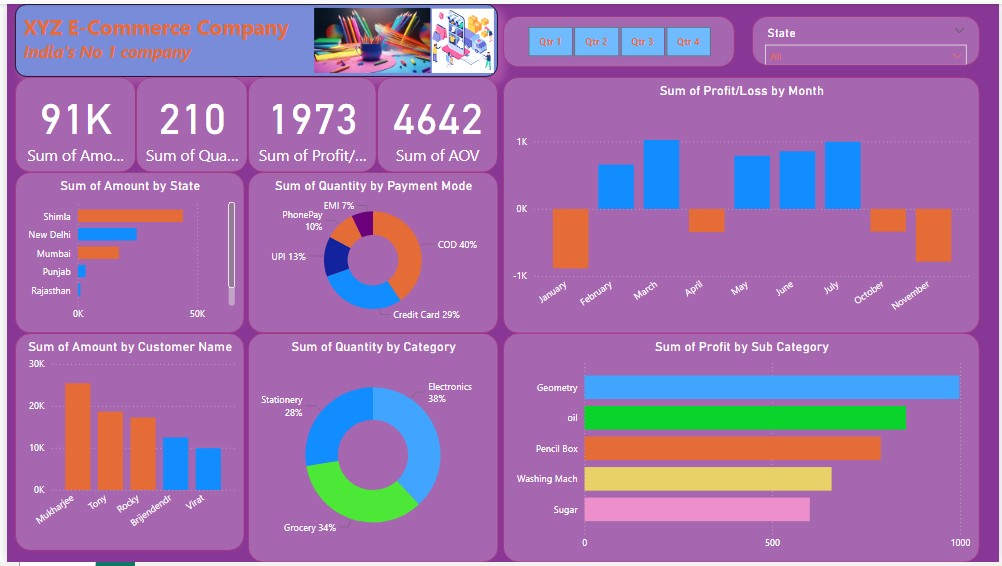

The page's visual inventory and layout, read from the dashboard file:
{"tool":"powerbi","page":{"name":"Page 1","canvas":[1280,720],"ordinal":0},"visuals":[{"type":"textbox","box":[10.1,0,629.9,68.9],"z":0},{"type":"columnChart","title":"Profit by Month","fields":{"Y":["Details.Profit"],"Category":["Orders.Order Date.Variation.Date Hierarchy.Month"]},"box":[660.2,110.9,608.1,330.9],"z":1},{"type":"barChart","fields":{"Category":["Details.Sub-Category"],"Y":["Details.Profit"]},"box":[660.2,456.9,608.1,263.7],"z":2},{"type":"donutChart","fields":{"Category":["Details.Category"],"Y":["Details.Quantity"]},"box":[325.9,226.8,314.1,215],"z":3},{"type":"donutChart","fields":{"Y":["Details.Quantity"],"Category":["Details.PaymentMode"]},"box":[325.9,472,314.1,248.6],"z":4},{"type":"card","fields":{"Values":["Details.Amount"]},"box":[10.1,87.3,141.1,119.3],"z":5},{"type":"card","fields":{"Values":["Details.Quantity"]},"box":[171.3,87.3,139.4,119.3],"z":6},{"type":"card","fields":{"Values":["Details.Profit"]},"box":[325.9,87.3,144.5,119.3],"z":7},{"type":"card","fields":{"Values":["Details.AOV"]},"box":[485.5,87.3,154.5,119.3],"z":8},{"type":"barChart","fields":{"Category":["Orders.State"],"Y":["Details.Amount"]},"box":[0,226.8,310.8,215],"z":9},{"type":"barChart","fields":{"Category":["Orders.CustomerName"],"Y":["Details.Amount"]},"box":[0,472,311,248],"z":10},{"type":"slicer","fields":{"Values":["Orders.Order Date.Variation.Date Hierarchy.Quarter"]},"box":[665.2,5,398.1,82.3],"z":11},{"type":"slicer","fields":{"Values":["Orders.State"]},"box":[1080.1,0,188.1,87.3],"z":12}]}

Visuals, with their boxes in screenshot pixels (x1, y1, x2, y2), scaled from the page's 1280x720 canvas onto the 1002x566 screenshot:
textbox: pyautogui.locateOnScreen(8, 0, 501, 54)
"Profit by Month" columnChart: pyautogui.locateOnScreen(517, 87, 993, 347)
barChart - Details.Sub-Category x Details.Profit: pyautogui.locateOnScreen(517, 359, 993, 565)
donutChart - Details.Category x Details.Quantity: pyautogui.locateOnScreen(255, 178, 501, 347)
donutChart - Details.Quantity x Details.PaymentMode: pyautogui.locateOnScreen(255, 371, 501, 565)
card - Details.Amount: pyautogui.locateOnScreen(8, 69, 118, 162)
card - Details.Quantity: pyautogui.locateOnScreen(134, 69, 243, 162)
card - Details.Profit: pyautogui.locateOnScreen(255, 69, 368, 162)
card - Details.AOV: pyautogui.locateOnScreen(380, 69, 501, 162)
barChart - Orders.State x Details.Amount: pyautogui.locateOnScreen(0, 178, 243, 347)
barChart - Orders.CustomerName x Details.Amount: pyautogui.locateOnScreen(0, 371, 243, 565)
slicer - Orders.Order Date.Variation.Date Hierarchy.Quarter: pyautogui.locateOnScreen(521, 4, 832, 69)
slicer - Orders.State: pyautogui.locateOnScreen(846, 0, 993, 69)
